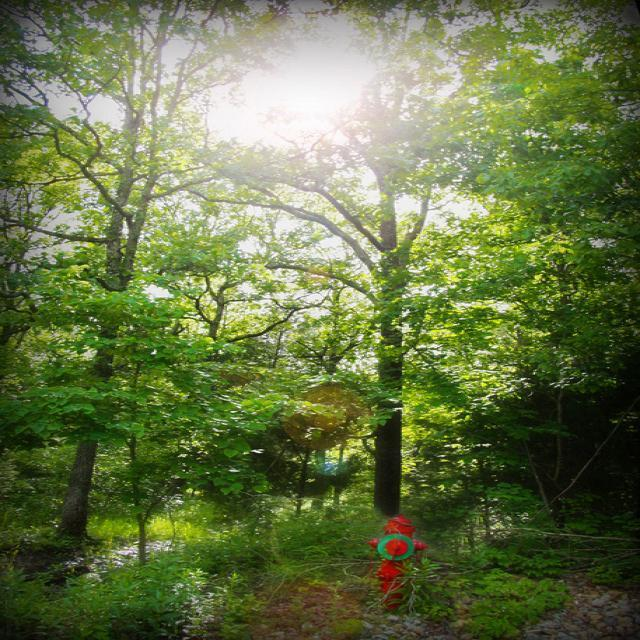fire_hydrant: (367, 515, 430, 613)
